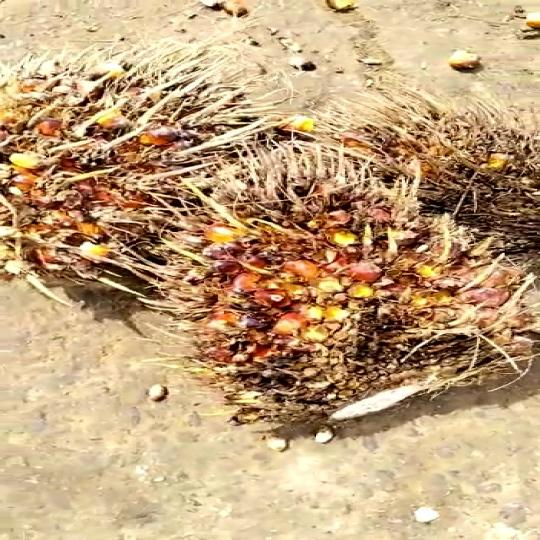terlalu masak: (139, 147, 540, 430), (0, 66, 282, 298), (318, 89, 540, 242)
